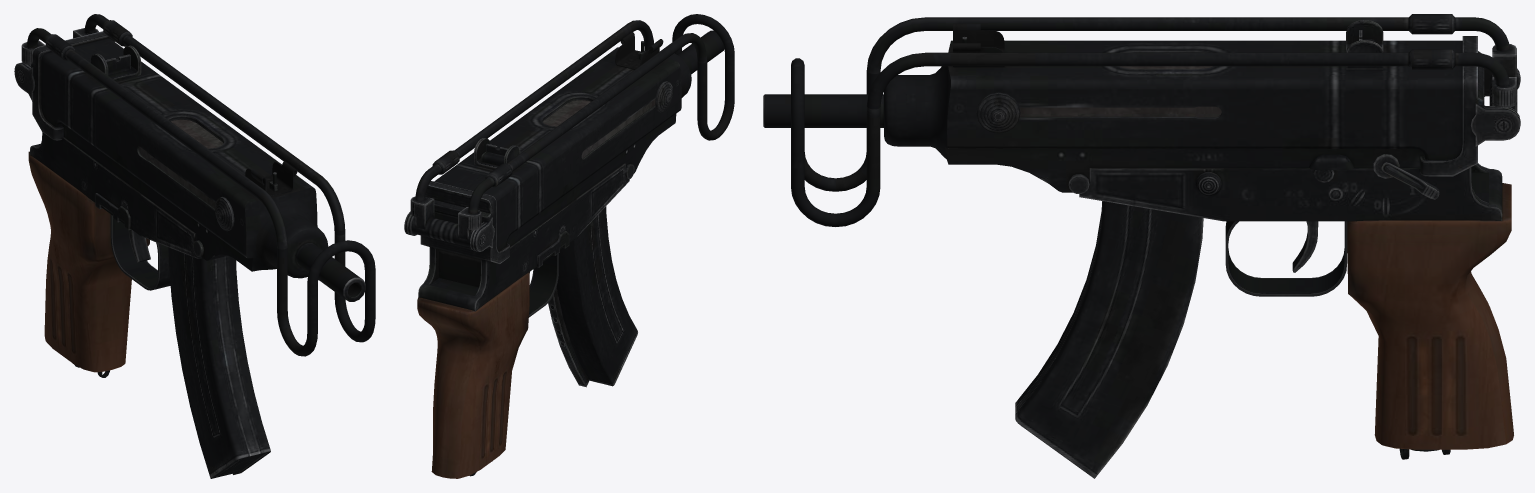
The model's file is uzi.glb.
The picture shows the model from 3 angles, left to right: view 1: azimuth 30°, elevation 25°; view 2: azimuth 150°, elevation 25°; view 3: azimuth 270°, elevation 25°; orthographic projection. The views are drawn at different scales.
Visible parts, largest first — view 1: gun, magazine, Stock, bolt, trigger; view 2: gun, Stock, magazine, bolt; view 3: gun, magazine, Stock, bolt, switch.
Part boxes in pixels (x1,y1,x2,y2): gun: [14, 31, 365, 377]; magazine: [168, 247, 270, 478]; Stock: [21, 14, 375, 356]; bolt: [139, 119, 234, 231]; trigger: [128, 229, 150, 262]; gun: [404, 30, 724, 478]; Stock: [410, 14, 734, 247]; magazine: [548, 206, 637, 387]; bolt: [543, 81, 672, 158]; gun: [763, 20, 1520, 459]; magazine: [1015, 201, 1203, 478]; Stock: [791, 14, 1517, 226]; bolt: [976, 66, 1221, 133]; switch: [1373, 154, 1439, 199].
Size of the model in its own units: 1.83 by 6.89 by 10.82.
Materials: 1 (1 with a texture image).
